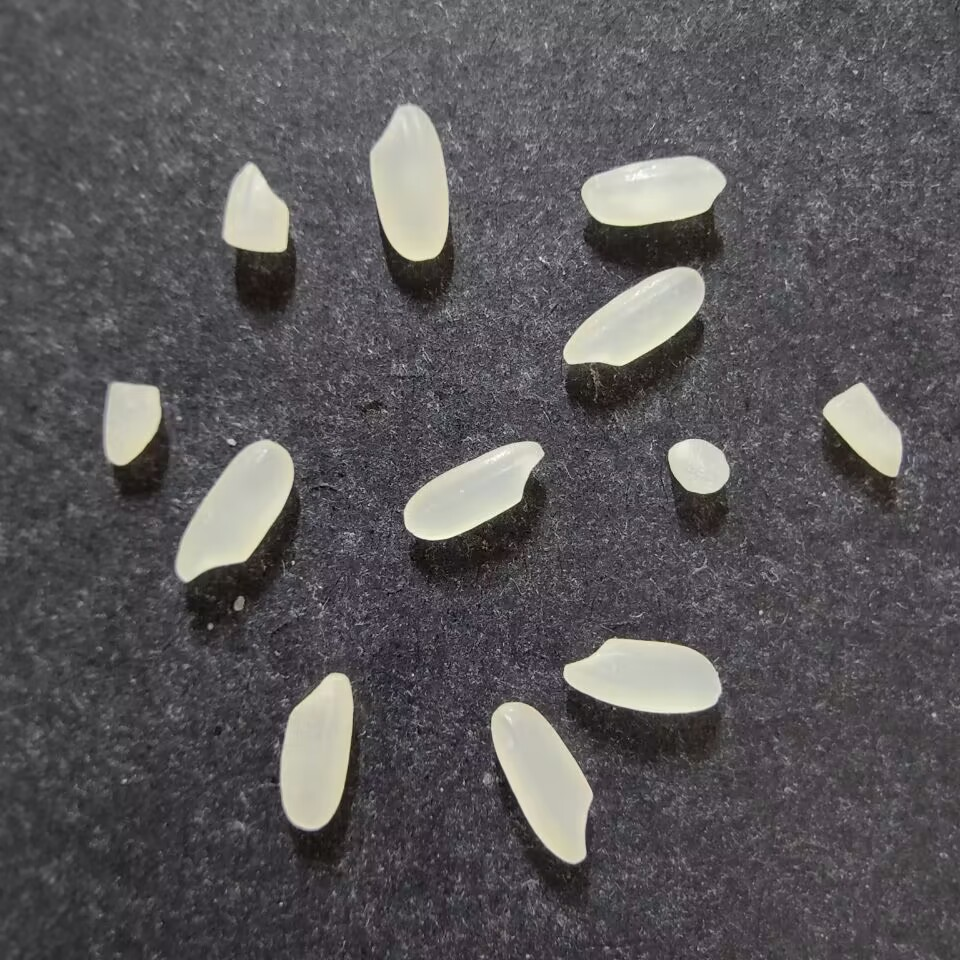broken: (821, 381, 903, 478), (222, 162, 289, 253), (102, 381, 161, 465), (667, 437, 729, 494)
rice: (174, 439, 295, 583), (490, 701, 593, 864), (562, 266, 705, 367), (403, 440, 545, 541), (367, 103, 449, 261), (562, 637, 720, 715), (279, 672, 352, 831), (580, 155, 727, 227)
